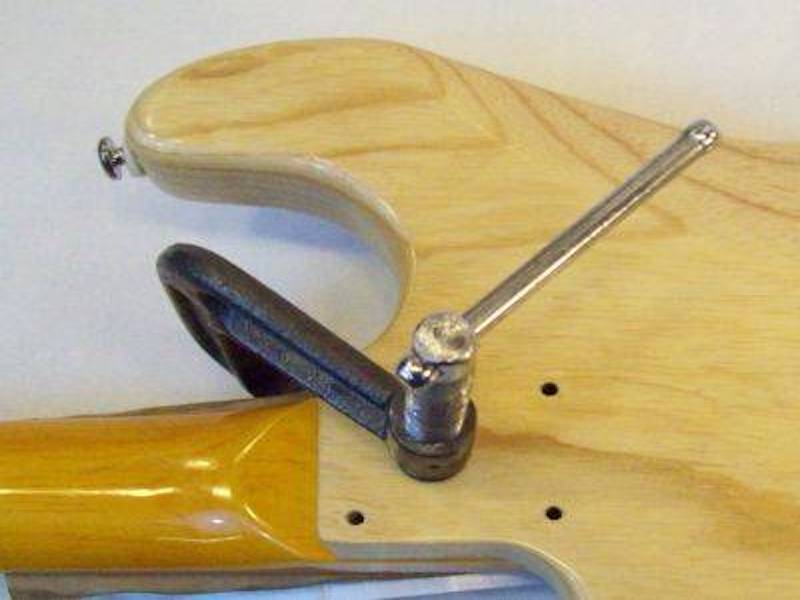hole: (538, 380, 560, 399), (346, 510, 367, 528), (543, 504, 563, 522)
